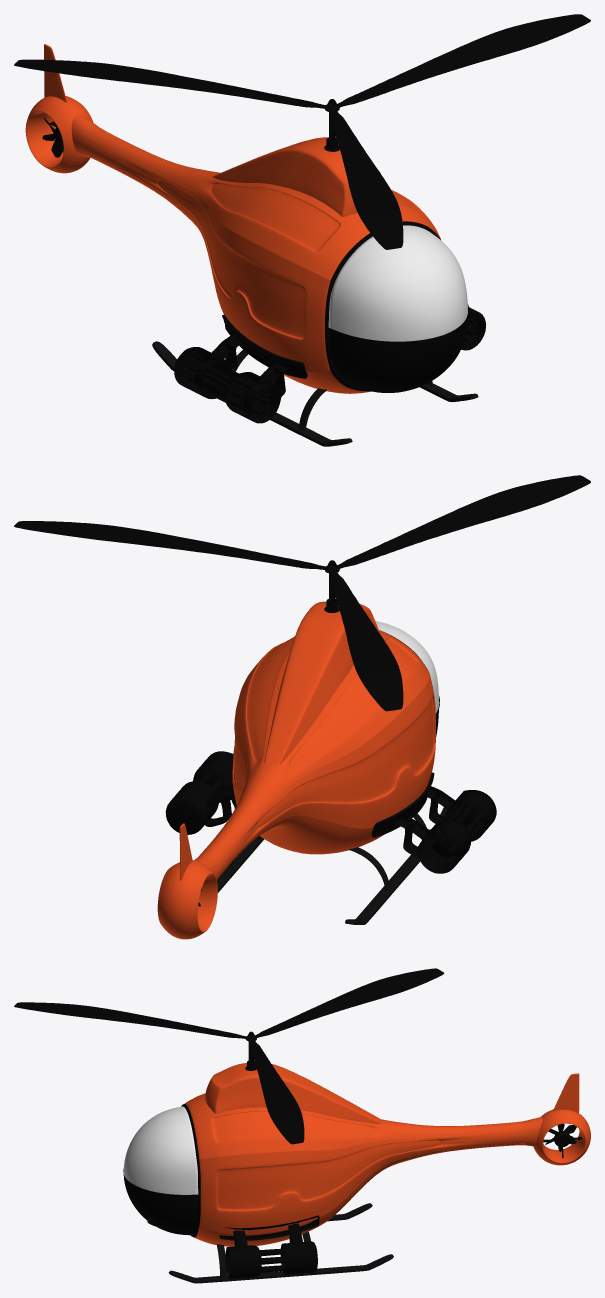
The picture shows the model from 3 angles, top to bottom: view 1: azimuth 30°, elevation 25°; view 2: azimuth 150°, elevation 25°; view 3: azimuth 270°, elevation 25°; orthographic projection. The views are drawn at different scales.
Parts seen in each view (by area): view 1: HelicopterBody, Sphere, TopFin, GatlingGun, TopEngine, BackWingsContainer, StandPlane, HelicopterBody.001, GlassGasket, Plane.001; view 2: HelicopterBody, TopFin, GatlingGun, TopEngine, BackWingsContainer, StandPlane, Sphere, HelicopterBody.001; view 3: HelicopterBody, Sphere, TopFin, TopEngine, GatlingGun, StandPlane, BackWingsContainer, Plane.001, HelicopterBody.001, GlassGasket.
Boxes of the visible parts, <box> form: HelicopterBody: <box>71,114,440,393</box>; Sphere: <box>328,225,467,392</box>; TopFin: <box>14,14,590,249</box>; GatlingGun: <box>174,307,486,423</box>; TopEngine: <box>213,137,380,216</box>; BackWingsContainer: <box>25,96,93,173</box>; StandPlane: <box>152,341,478,446</box>; HelicopterBody.001: <box>222,315,307,378</box>; GlassGasket: <box>325,221,440,391</box>; Plane.001: <box>44,44,67,102</box>; HelicopterBody: <box>194,630,435,879</box>; TopFin: <box>14,475,590,711</box>; GatlingGun: <box>165,751,496,873</box>; TopEngine: <box>264,601,379,765</box>; BackWingsContainer: <box>157,860,217,939</box>; StandPlane: <box>217,807,447,924</box>; Sphere: <box>375,621,438,736</box>; HelicopterBody.001: <box>231,772,434,837</box>; HelicopterBody: <box>184,1093,542,1246</box>; Sphere: <box>123,1106,198,1235</box>; TopFin: <box>14,968,444,1144</box>; TopEngine: <box>205,1063,382,1123</box>; GatlingGun: <box>225,1223,317,1278</box>; StandPlane: <box>147,1203,393,1283</box>; BackWingsContainer: <box>533,1109,590,1165</box>; Plane.001: <box>553,1073,579,1113</box>; HelicopterBody.001: <box>219,1215,319,1240</box>; GlassGasket: <box>181,1104,200,1237</box>.
Bounding box in the file's own units: 3.66 × 2.15 × 5.11.
